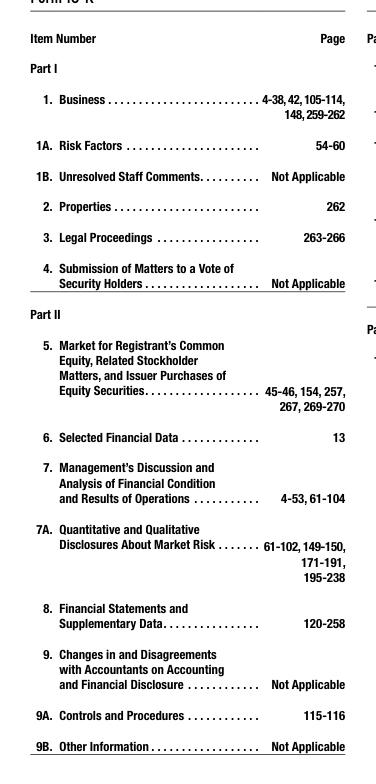table: (29, 29, 344, 752)
table column: (54, 29, 246, 752), (246, 29, 344, 752), (29, 29, 54, 752)
table column header: (29, 29, 344, 52)
table projected row header: (29, 52, 344, 83), (29, 297, 344, 328)
table row: (29, 83, 344, 129), (29, 553, 344, 591), (29, 52, 344, 83), (29, 159, 344, 190), (29, 190, 344, 221), (29, 297, 344, 328), (29, 420, 344, 451), (29, 129, 344, 159), (29, 221, 344, 251), (29, 699, 344, 729), (29, 29, 344, 52), (29, 251, 344, 274), (29, 274, 344, 297), (29, 328, 344, 351), (29, 397, 344, 420), (29, 451, 344, 474), (29, 489, 344, 512), (29, 512, 344, 535), (29, 591, 344, 614), (29, 614, 344, 637), (29, 637, 344, 660), (29, 676, 344, 699), (29, 729, 344, 752), (29, 535, 344, 553), (29, 366, 344, 382), (29, 660, 344, 676), (29, 351, 344, 366), (29, 382, 344, 397), (29, 474, 344, 489)
table spanning cell: (29, 29, 246, 52), (29, 328, 54, 420), (29, 512, 54, 591), (29, 637, 54, 699), (29, 451, 54, 512), (29, 251, 54, 297), (29, 591, 54, 637)
